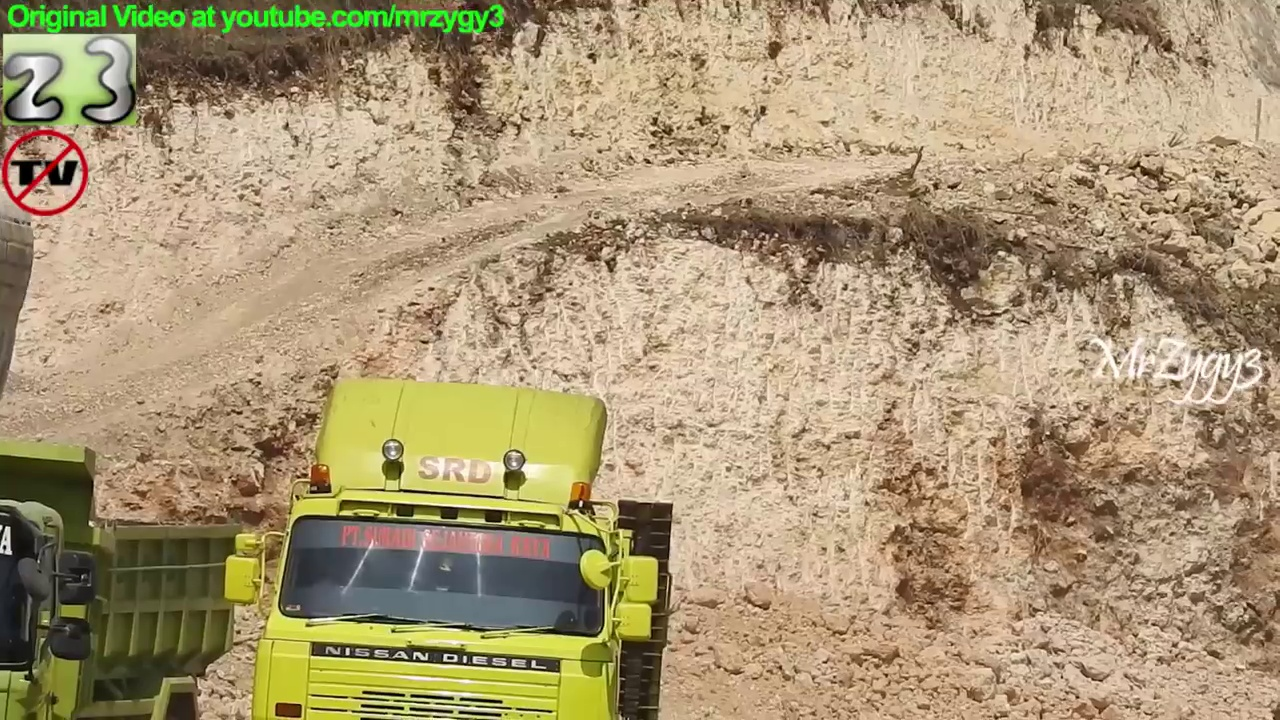truck: (222, 371, 680, 720), (1, 430, 255, 720)
